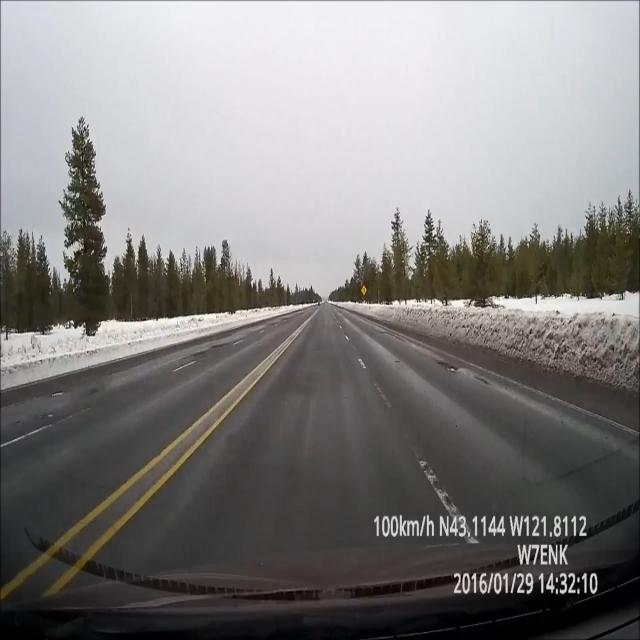Pothole: (438, 354, 488, 390)
